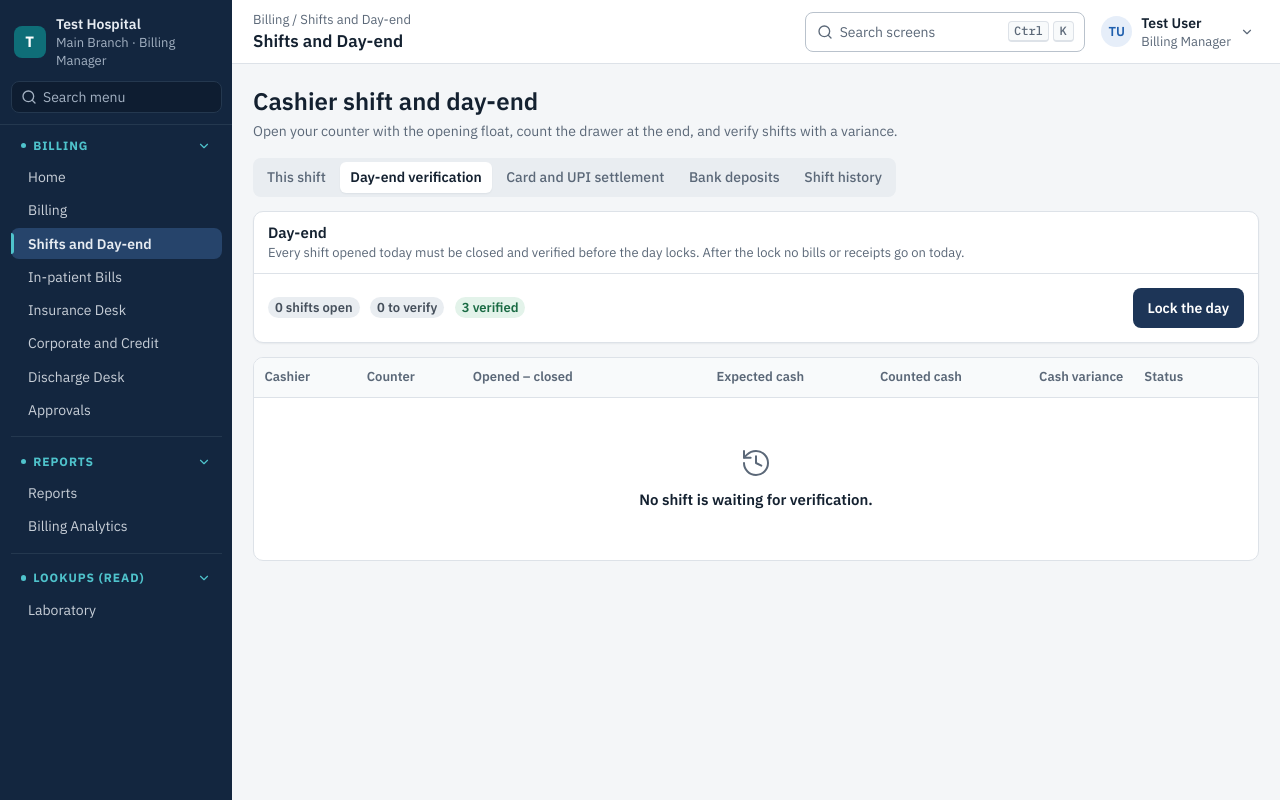
Test: Shift and day-end › locks the day only when every shift is verified
The width and height of the screenshot is (1280, 800).
Expected: the text "3 verified" is shown, x1=462 y1=298 x2=518 y2=316
What coordinates should you click on to do the following:
click the button "Lock the day"
I would click on:
 (1188, 308)
Its box is x1=1133 y1=288 x2=1244 y2=328.
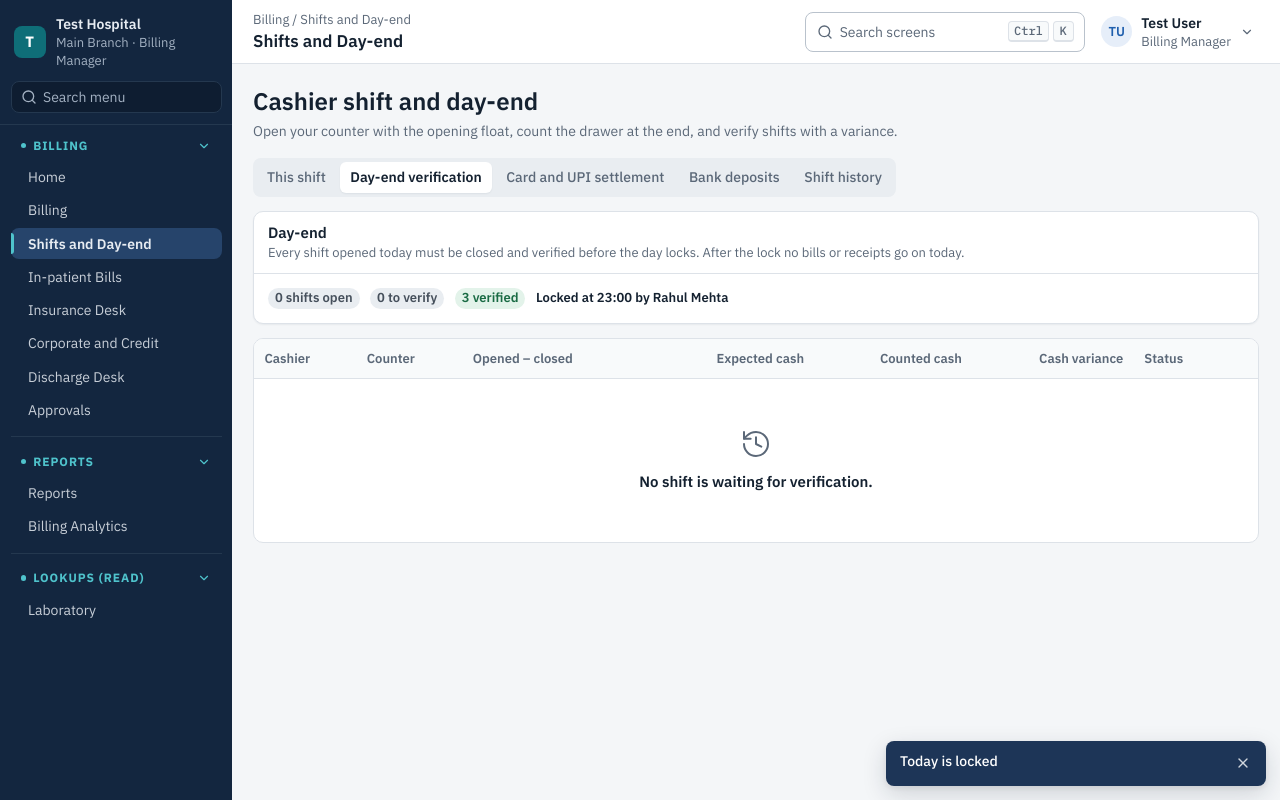
Expected: the text "Locked at 23:00 by Rahul Mehta" is shown, x1=536 y1=289 x2=728 y2=307
